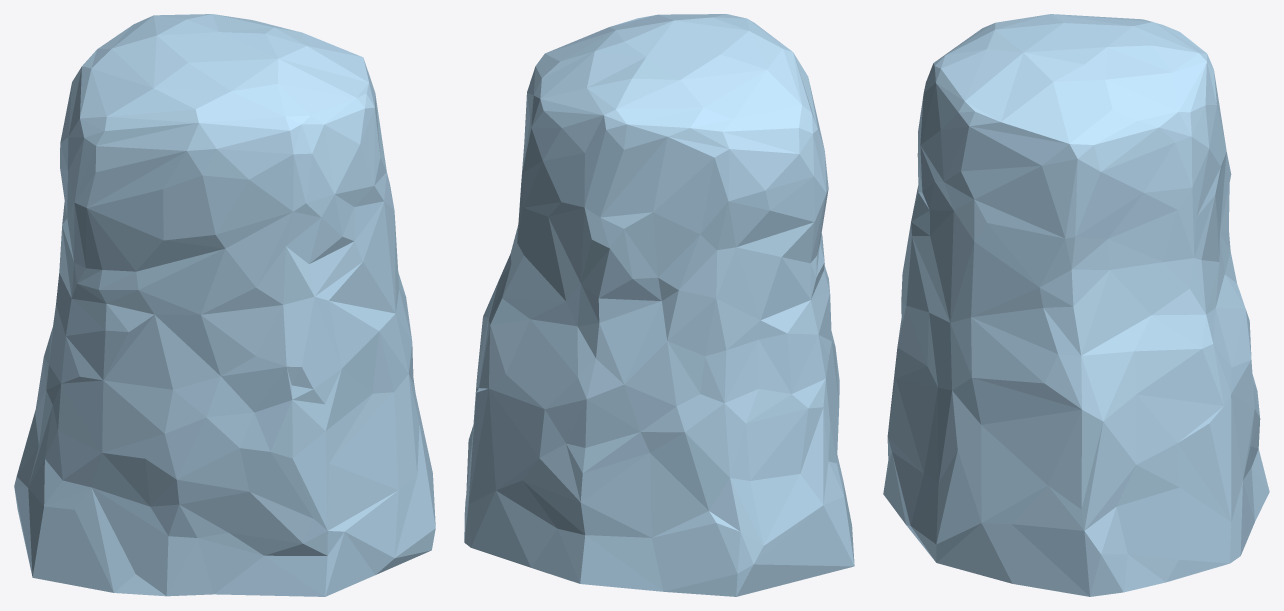
The model's file is PROP_Ice_FloorB02.FBX.
3 renders of one model, left to right at view 1: azimuth 30°, elevation 25°; view 2: azimuth 150°, elevation 25°; view 3: azimuth 270°, elevation 25°, orthographic. The views are drawn at different scales.
Visible parts, largest first — view 1: PROP_Ice_FloorB02; view 2: PROP_Ice_FloorB02; view 3: PROP_Ice_FloorB02.
Part boxes in pixels (box(x1,y1,x2,y2)): PROP_Ice_FloorB02: box(14, 14, 435, 596); PROP_Ice_FloorB02: box(464, 14, 854, 596); PROP_Ice_FloorB02: box(883, 14, 1269, 596).
Bounding box in the file's own units: 594 × 715 × 539.
1 material, 1 textured.
